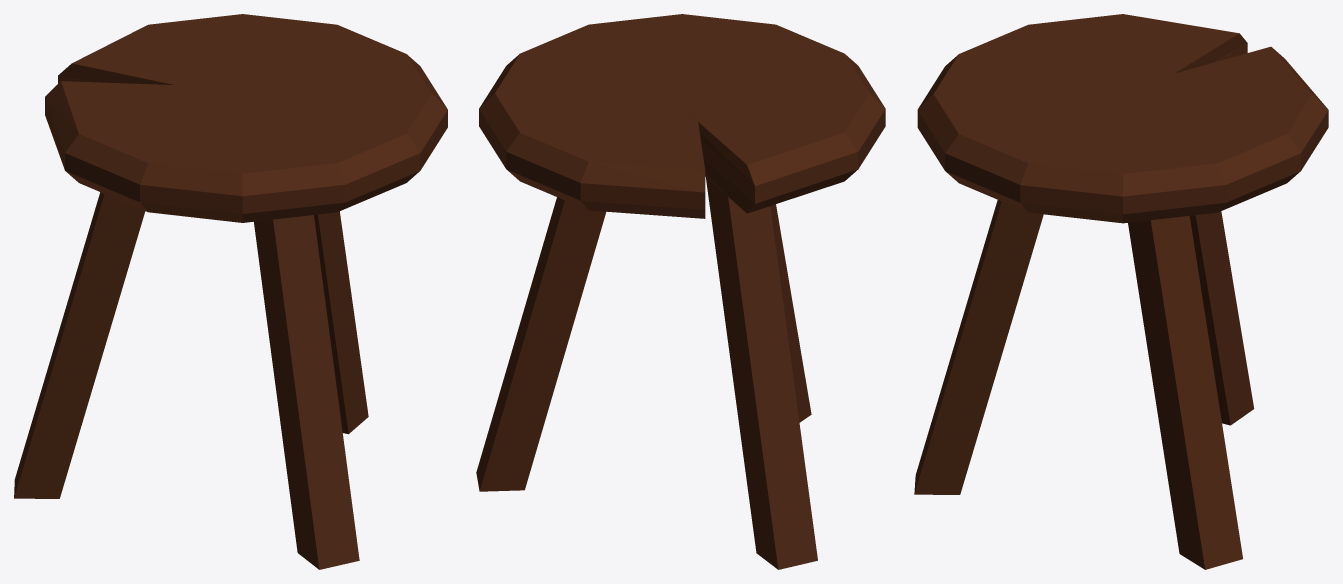
The model's file is 3er Hocker Macke.fbx.
3 views of the same model, side by side, from view 1: azimuth 30°, elevation 25°; view 2: azimuth 150°, elevation 25°; view 3: azimuth 270°, elevation 25° (orthographic).
Parts seen in each view (by area): view 1: 3er Hocker Macke; view 2: 3er Hocker Macke; view 3: 3er Hocker Macke.
Boxes of the visible parts, x1,y1,x2,y2 form: 3er Hocker Macke: [14, 14, 447, 569]; 3er Hocker Macke: [476, 14, 885, 569]; 3er Hocker Macke: [914, 14, 1328, 569].
Bounding box in the file's own units: 61.41 × 64.12 × 61.
